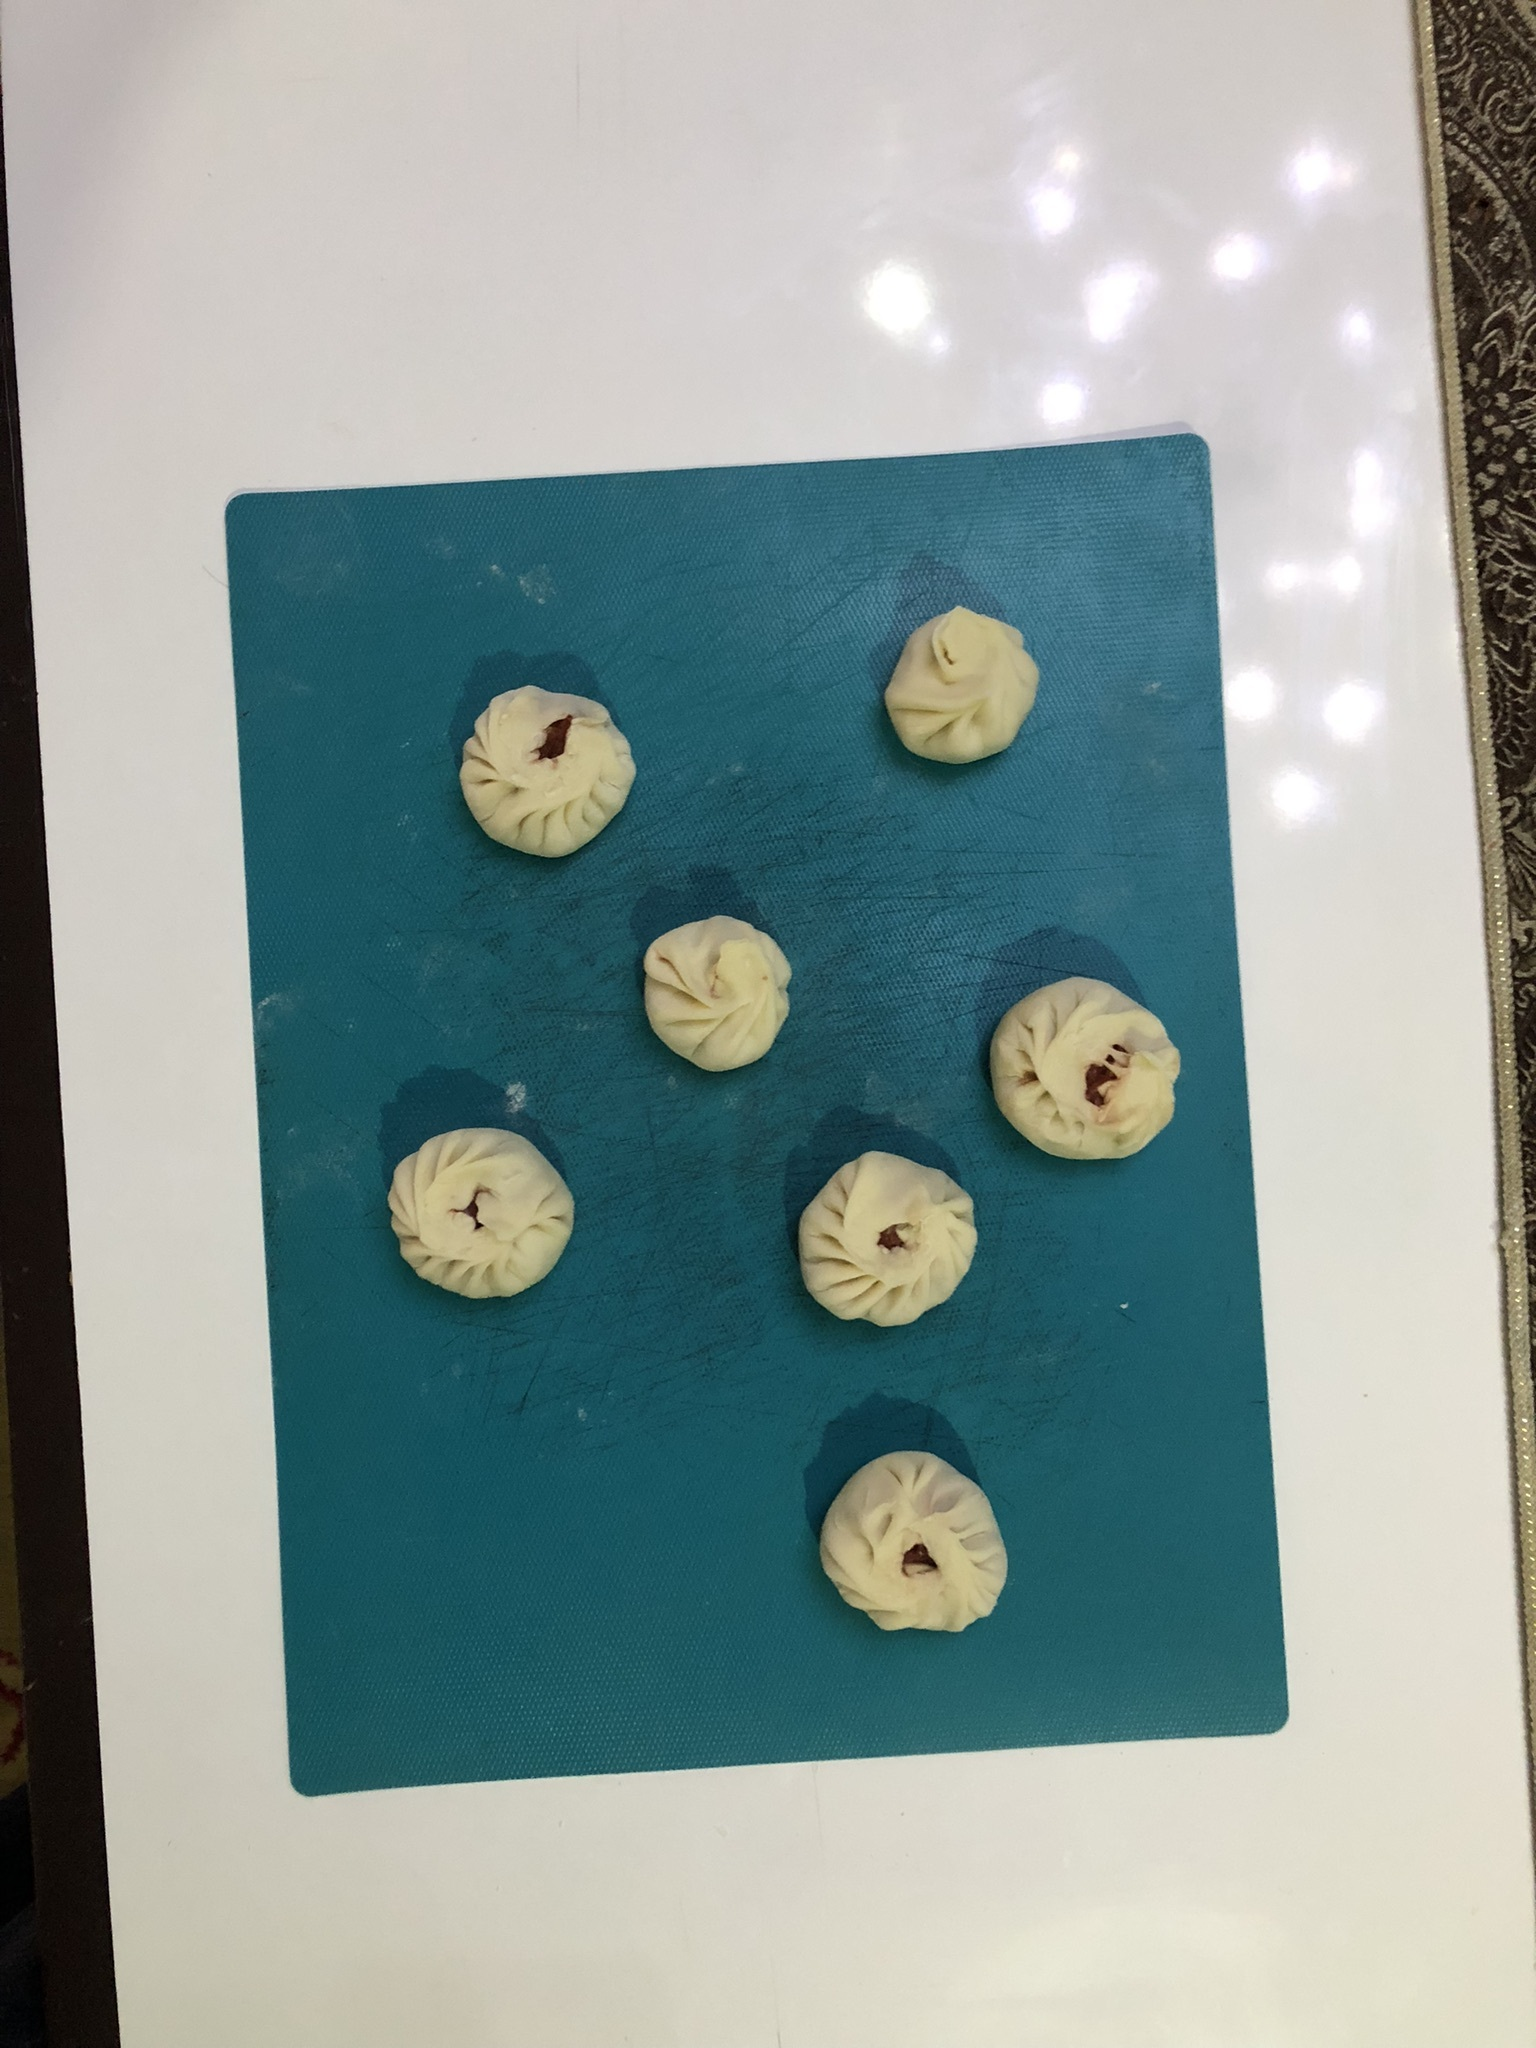buuz: (971, 961, 1191, 1177), (381, 1116, 594, 1317), (812, 1442, 1016, 1646), (449, 672, 649, 874), (787, 1142, 984, 1343), (871, 593, 1049, 777), (632, 906, 808, 1085)
